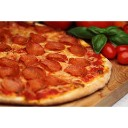pepperonipizza: (1, 22, 112, 103)
